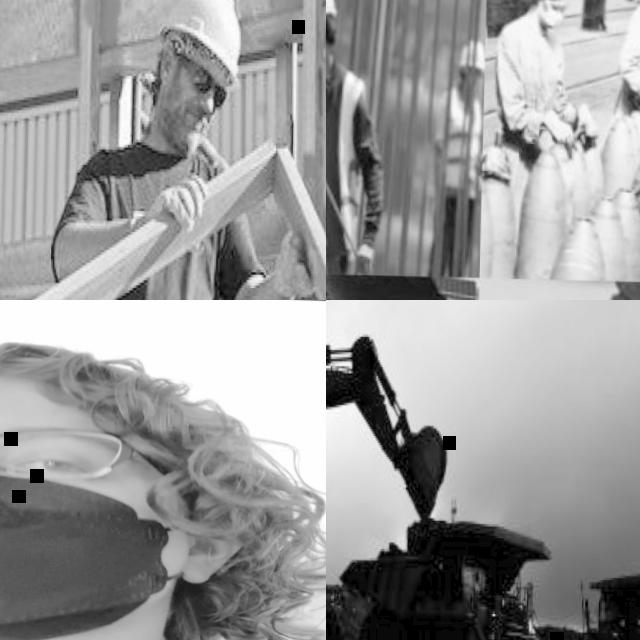Hardhat: (155, 0, 248, 83), (455, 38, 482, 72)
Mask: (0, 454, 224, 640), (540, 8, 563, 27), (469, 76, 482, 100)
NO-Hardhat: (0, 338, 255, 434)
NO-Mask: (161, 106, 210, 146)
NO-Safety Vest: (94, 147, 230, 300), (517, 21, 567, 106)
Person: (0, 333, 326, 640), (45, 0, 324, 300), (326, 0, 383, 272), (423, 43, 483, 276), (493, 0, 582, 144), (614, 0, 640, 112)
Safety Vest: (326, 68, 366, 243), (437, 93, 481, 186)
vehicle: (326, 329, 455, 581), (333, 507, 555, 640), (575, 568, 640, 640)
